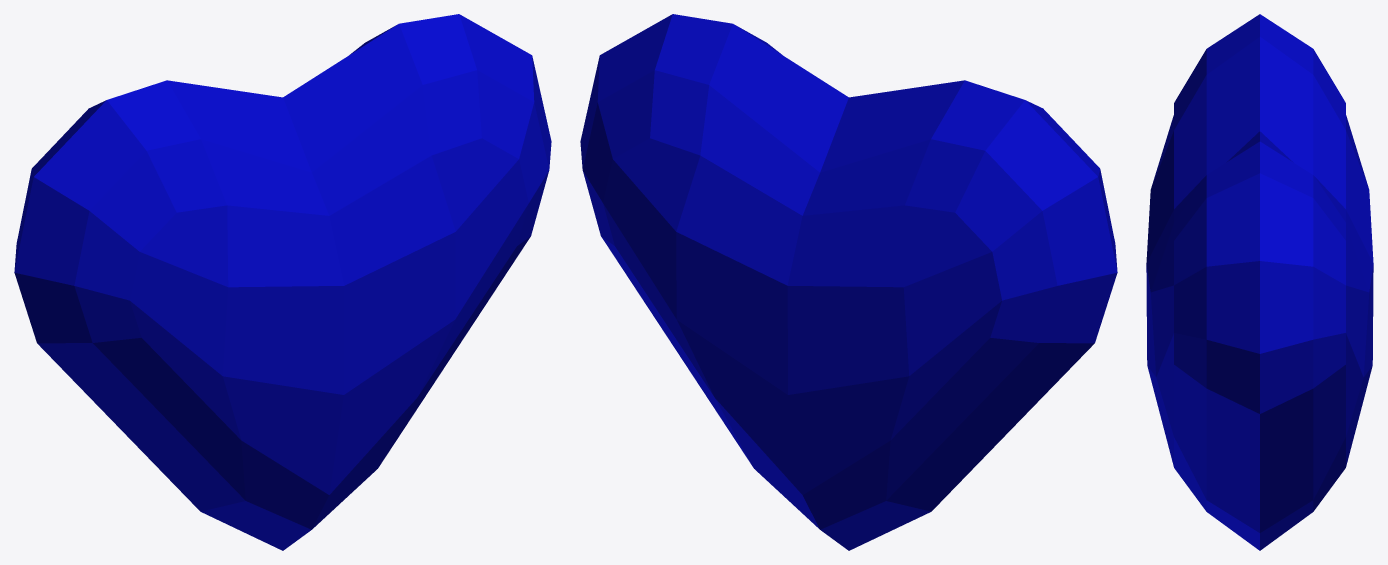
Rendered from heart blue.fbx.
3 renders of one model, left to right at view 1: azimuth 30°, elevation 25°; view 2: azimuth 150°, elevation 25°; view 3: azimuth 270°, elevation 25°, orthographic. The views are drawn at different scales.
Visible parts, largest first — view 1: heart blue; view 2: heart blue; view 3: heart blue.
Boxes of the visible parts, left/top/right/bottom form: heart blue: left=14, top=14, right=551, bottom=550; heart blue: left=580, top=14, right=1117, bottom=550; heart blue: left=1146, top=14, right=1373, bottom=550.
Size of the model in its own units: 0.5936 by 0.527 by 0.2348.
